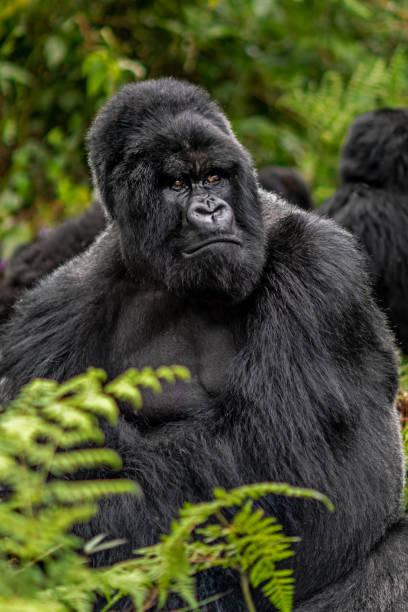goriile_montagne: (5, 60, 404, 598)
